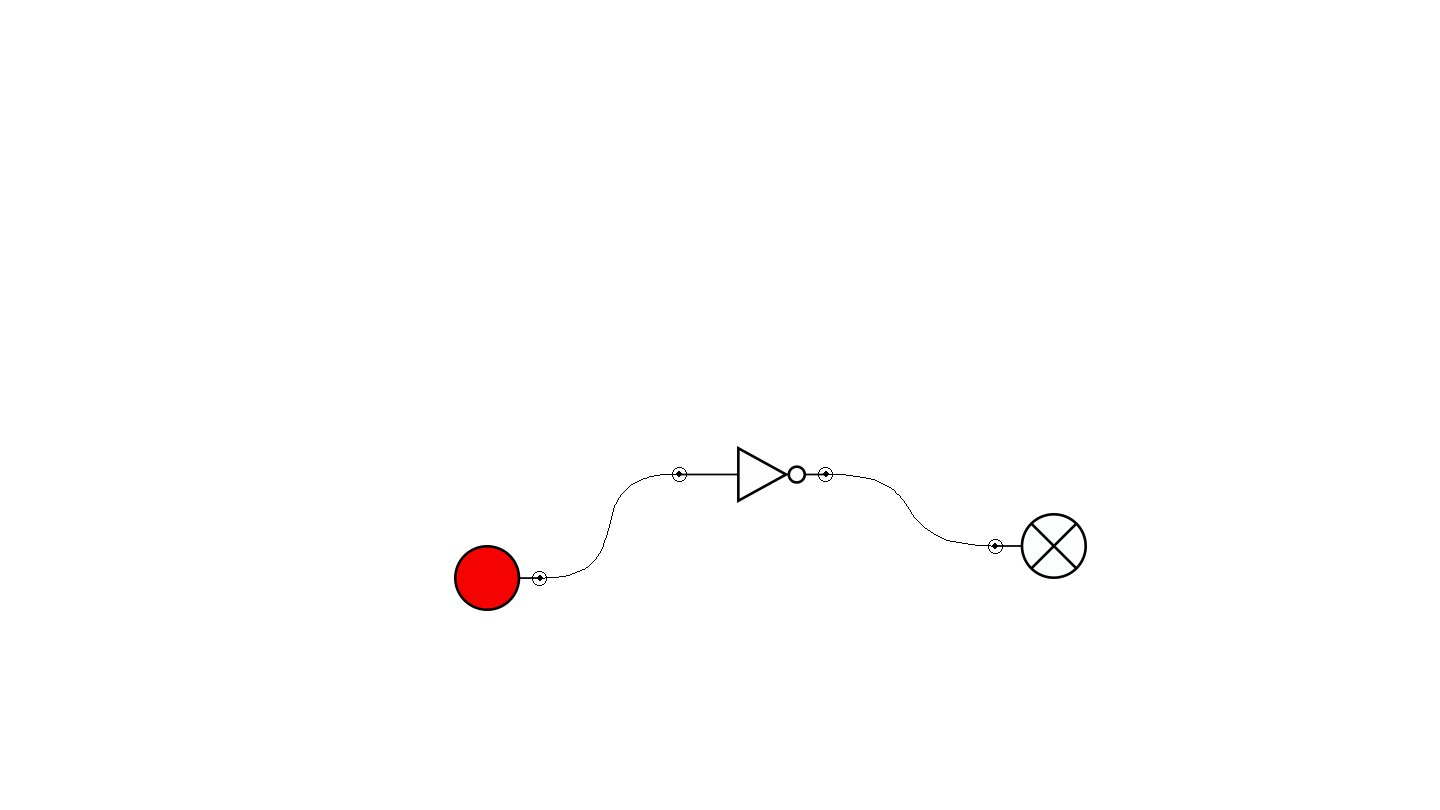bulb: (988, 513, 1087, 579)
not: (672, 446, 833, 503)
switch_False: (454, 545, 547, 611)
